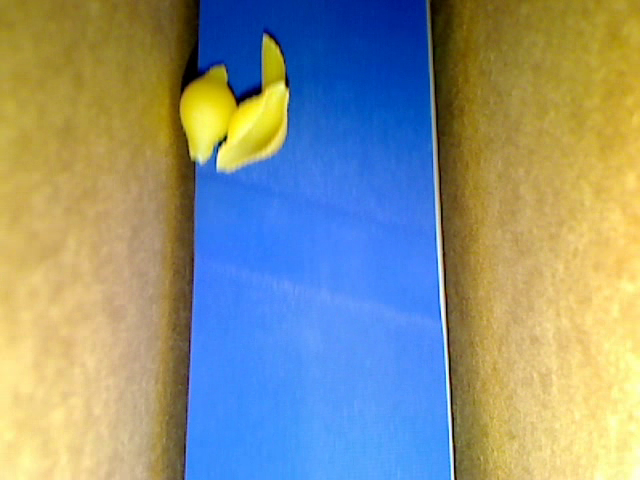penne: (260, 32, 285, 93)
shell: (216, 80, 291, 175), (179, 65, 237, 165)
